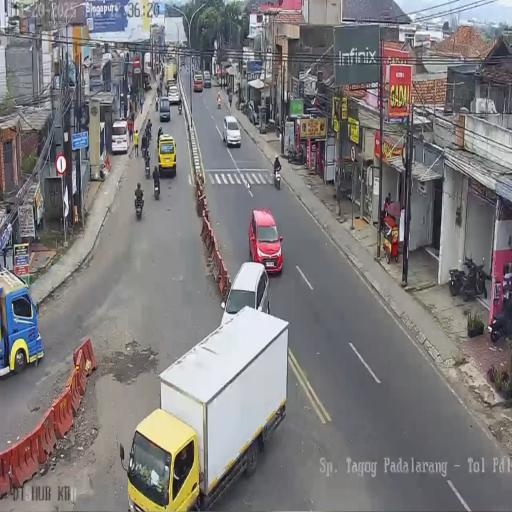car: (221, 261, 268, 321), (248, 208, 282, 273), (157, 134, 177, 177), (111, 119, 130, 155), (222, 114, 241, 148), (242, 99, 259, 124), (158, 95, 170, 122), (167, 84, 179, 106), (203, 70, 211, 88)
motorcycle: (448, 256, 490, 302), (488, 300, 510, 342), (286, 144, 304, 165), (134, 190, 144, 218), (274, 164, 282, 188), (141, 131, 148, 156), (144, 154, 151, 178), (154, 178, 160, 199), (157, 126, 162, 148), (147, 121, 152, 143), (228, 90, 233, 108), (276, 122, 281, 139), (155, 96, 159, 112), (180, 61, 186, 71), (178, 102, 182, 115), (235, 98, 239, 111)
truck: (123, 298, 284, 512), (143, 52, 153, 84), (164, 61, 177, 85), (193, 70, 203, 92)
